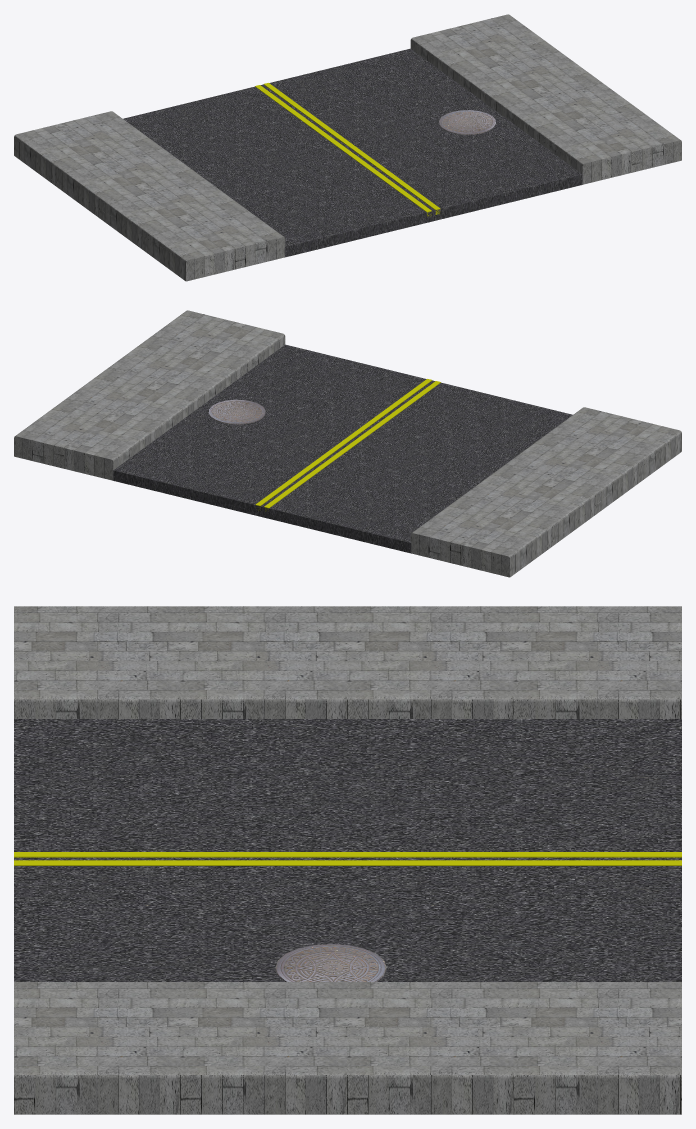
Rendered from Yellow Lines & Manhole Street.fbx.
3 renders of one model, top to bottom at view 1: azimuth 30°, elevation 25°; view 2: azimuth 150°, elevation 25°; view 3: azimuth 270°, elevation 25°, orthographic. The views are drawn at different scales.
Visible parts, largest first — view 1: pCube1, pasted__pasted__pCube1, pasted__pCube1, pCylinder1, pasted__pCube2, pCube2; view 2: pCube1, pasted__pasted__pCube1, pasted__pCube1, pCylinder1, pCube2, pasted__pCube2; view 3: pCube1, pasted__pCube1, pasted__pasted__pCube1, pCube2, pasted__pCube2, pCylinder1.
Boxes of the visible parts, x1=… form: pCube1: x1=123, y1=48, x2=582, y2=257; pasted__pasted__pCube1: x1=14, y1=111, x2=285, y2=281; pasted__pCube1: x1=410, y1=14, x2=681, y2=184; pCylinder1: x1=439, y1=110, x2=495, y2=134; pasted__pCube2: x1=263, y1=83, x2=440, y2=214; pCube2: x1=255, y1=85, x2=431, y2=216; pCube1: x1=113, y1=344, x2=572, y2=553; pasted__pasted__pCube1: x1=410, y1=407, x2=681, y2=577; pasted__pCube1: x1=14, y1=310, x2=285, y2=480; pCylinder1: x1=208, y1=399, x2=265, y2=424; pCube2: x1=264, y1=381, x2=440, y2=511; pasted__pCube2: x1=255, y1=379, x2=432, y2=510; pCube1: x1=14, y1=719, x2=681, y2=981; pasted__pCube1: x1=14, y1=982, x2=681, y2=1114; pasted__pasted__pCube1: x1=14, y1=606, x2=681, y2=718; pCube2: x1=14, y1=852, x2=681, y2=857; pasted__pCube2: x1=14, y1=860, x2=681, y2=865; pCylinder1: x1=275, y1=944, x2=386, y2=981.
Size of the model in its own units: 9.99 by 0.401 by 6.
5 materials, 4 textured.
